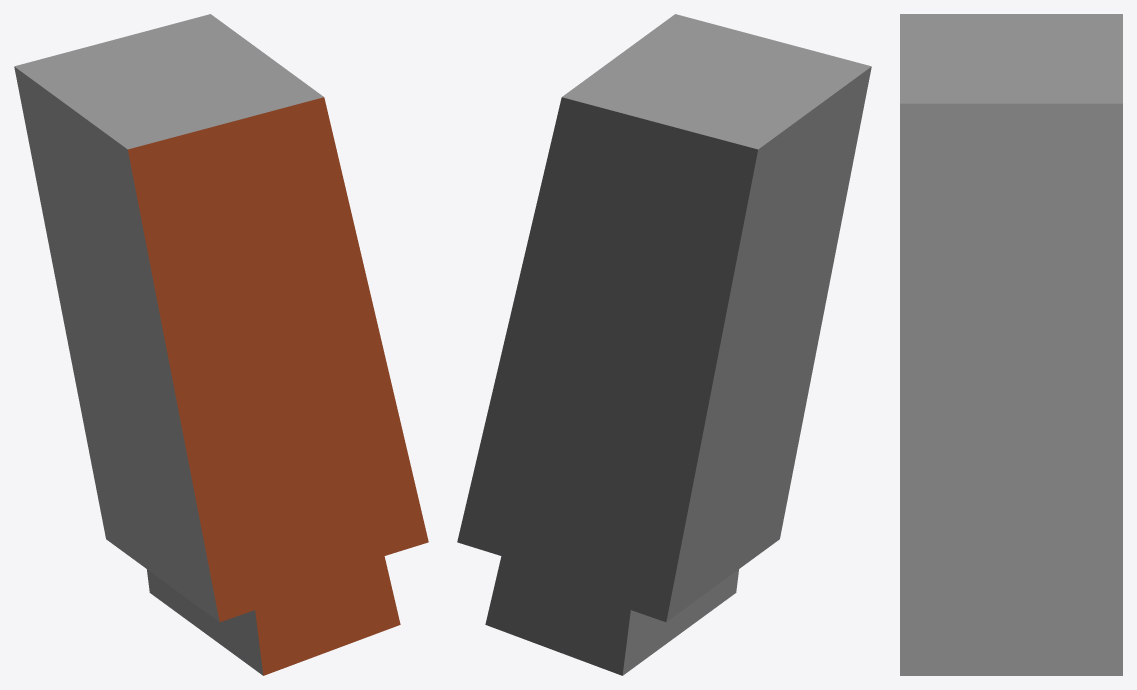
File: construction_5507_assumed_A_Casa_h6m.obj
3 renders of one model, left to right at view 1: azimuth 30°, elevation 25°; view 2: azimuth 150°, elevation 25°; view 3: azimuth 270°, elevation 25°, orthographic.
Visible parts, largest first — view 1: construction_5507_assumed_A_Casa; view 2: construction_5507_assumed_A_Casa; view 3: construction_5507_assumed_A_Casa.
Boxes of the visible parts, <box> form: construction_5507_assumed_A_Casa: <box>14,14,428,675</box>; construction_5507_assumed_A_Casa: <box>457,14,871,675</box>; construction_5507_assumed_A_Casa: <box>900,14,1122,675</box>.
Size of the model in its own units: 9.18 by 16.43 by 6.
